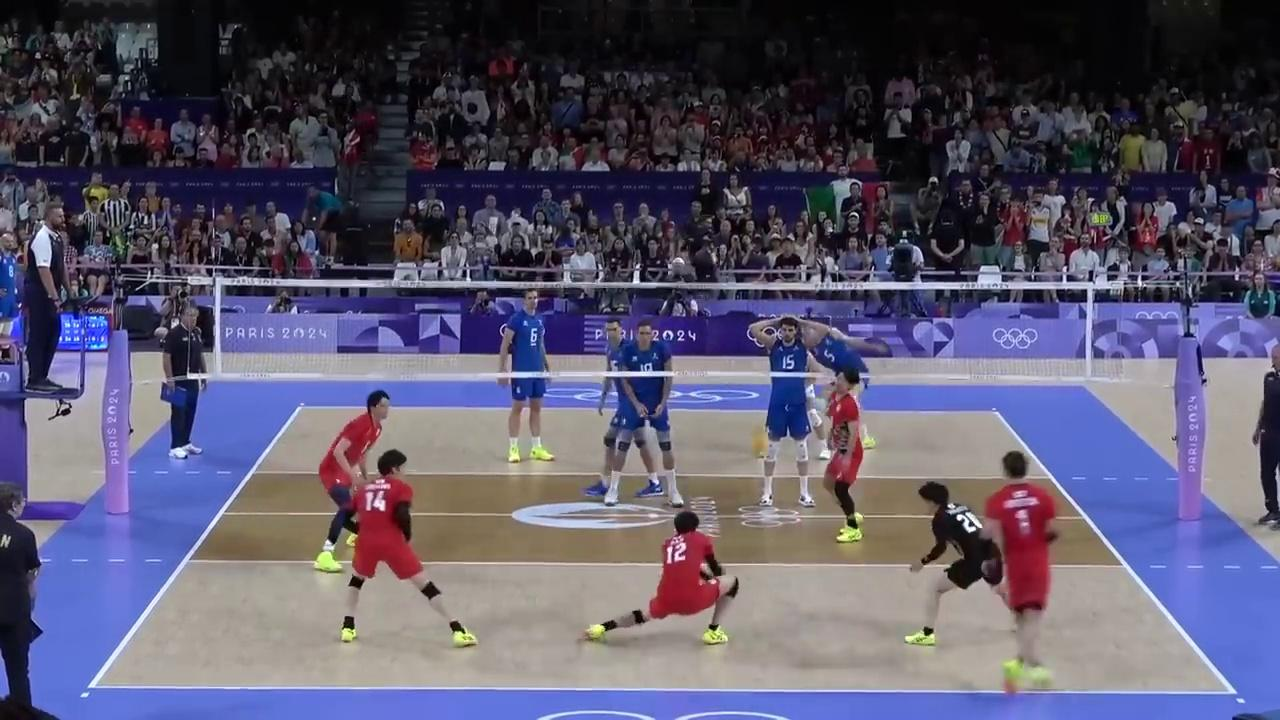ball: (753, 427, 769, 457)
